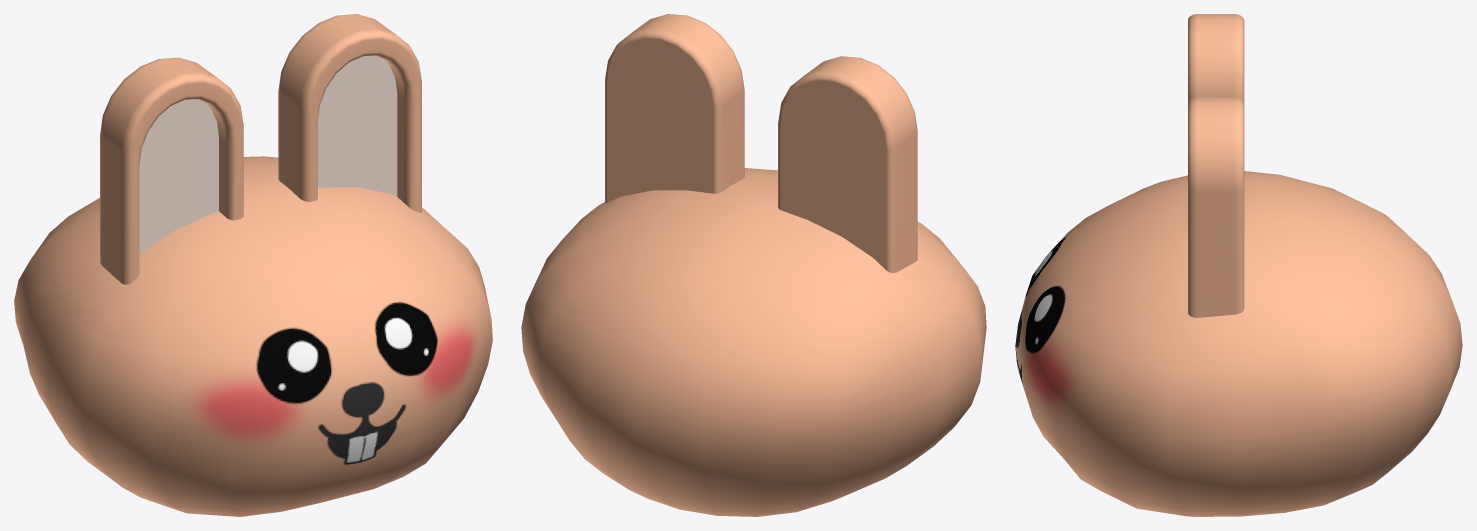
File: thoo.fbx
The picture shows the model from 3 angles, left to right: view 1: azimuth 30°, elevation 25°; view 2: azimuth 150°, elevation 25°; view 3: azimuth 270°, elevation 25°; orthographic projection. The views are drawn at different scales.
Visible parts, largest first — view 1: tho1; view 2: tho1; view 3: tho1.
Part boxes in pixels (bbox=[...]): tho1: bbox=[14, 14, 492, 516]; tho1: bbox=[521, 14, 986, 516]; tho1: bbox=[1015, 14, 1462, 516].
Bounding box in the file's own units: 2.01 × 2.11 × 2.01.
Materials: 1 (1 with a texture image).
